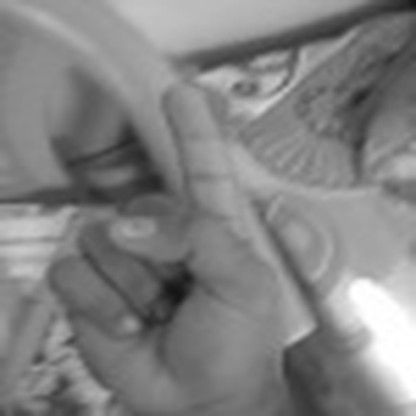d: (59, 79, 276, 411)
